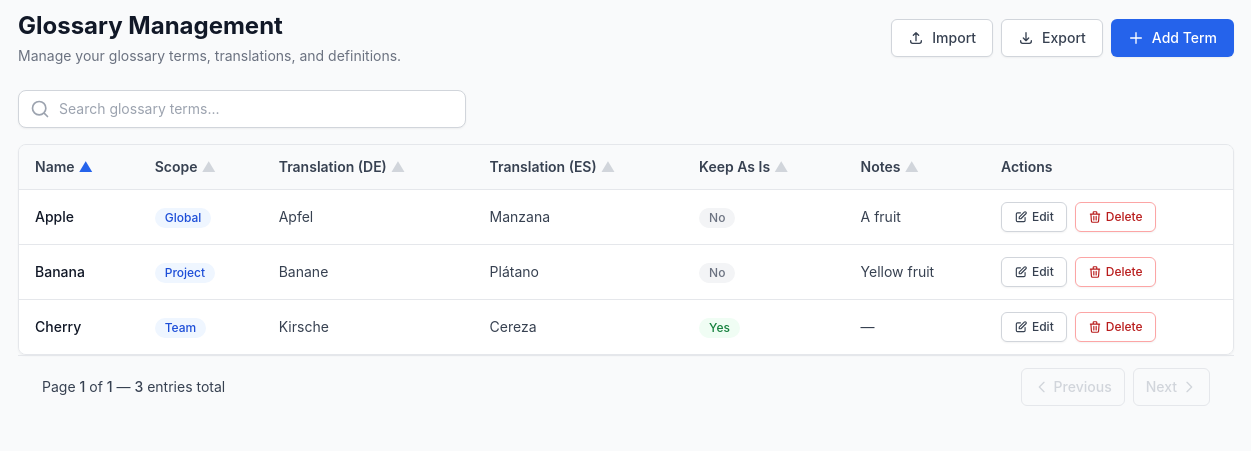
Test: App › searching terms › shows empty state when search has no results
Expected: the text "Apple" is shown, top-left (19, 190), bottom-right (139, 244)
Type "zzzznonexistent" into the field labelled "Search glossary terms". click: (242, 109)
box: top-left (18, 90), bottom-right (466, 128)
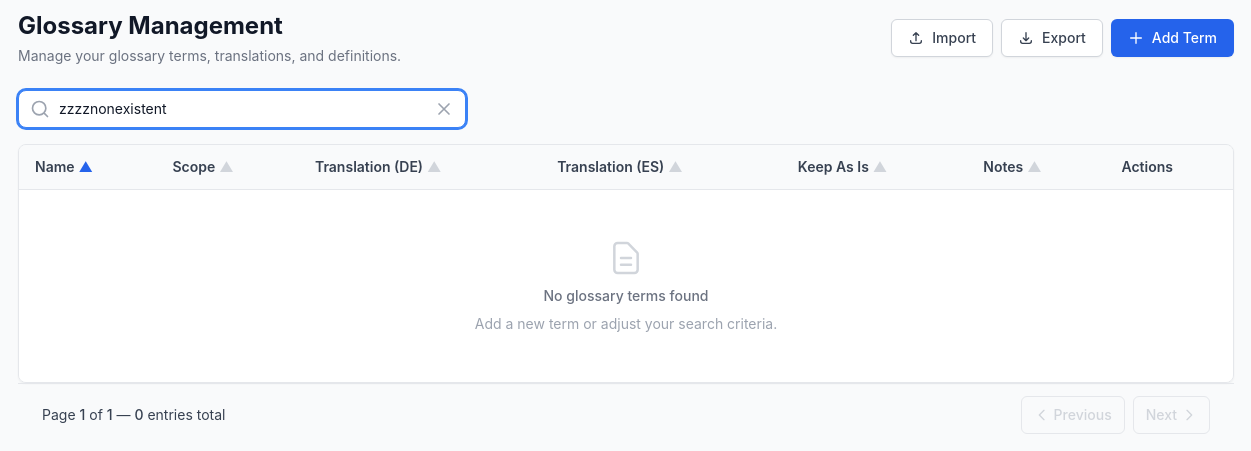
Now the text "No glossary terms found" is shown, box top-left (544, 286), bottom-right (708, 306)
